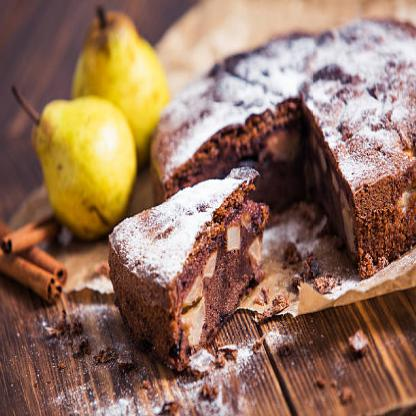Paer: (15, 89, 141, 227)
